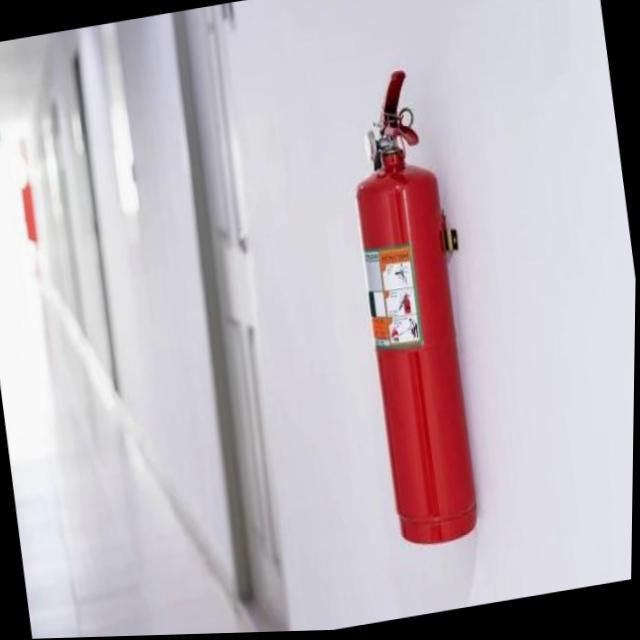FireExtinguisher: (329, 58, 497, 560)
